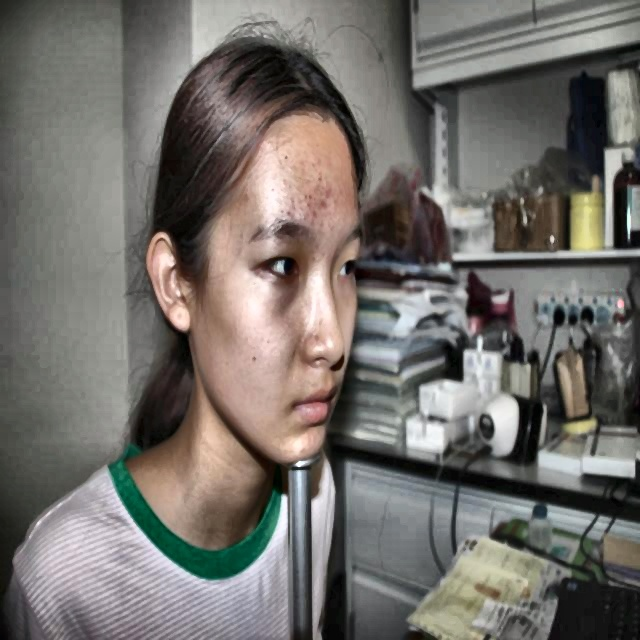pustule: (312, 237, 324, 257), (302, 187, 314, 207), (309, 154, 326, 168), (298, 442, 310, 458), (325, 180, 333, 203), (316, 198, 327, 210), (310, 208, 320, 221), (343, 187, 353, 199)
